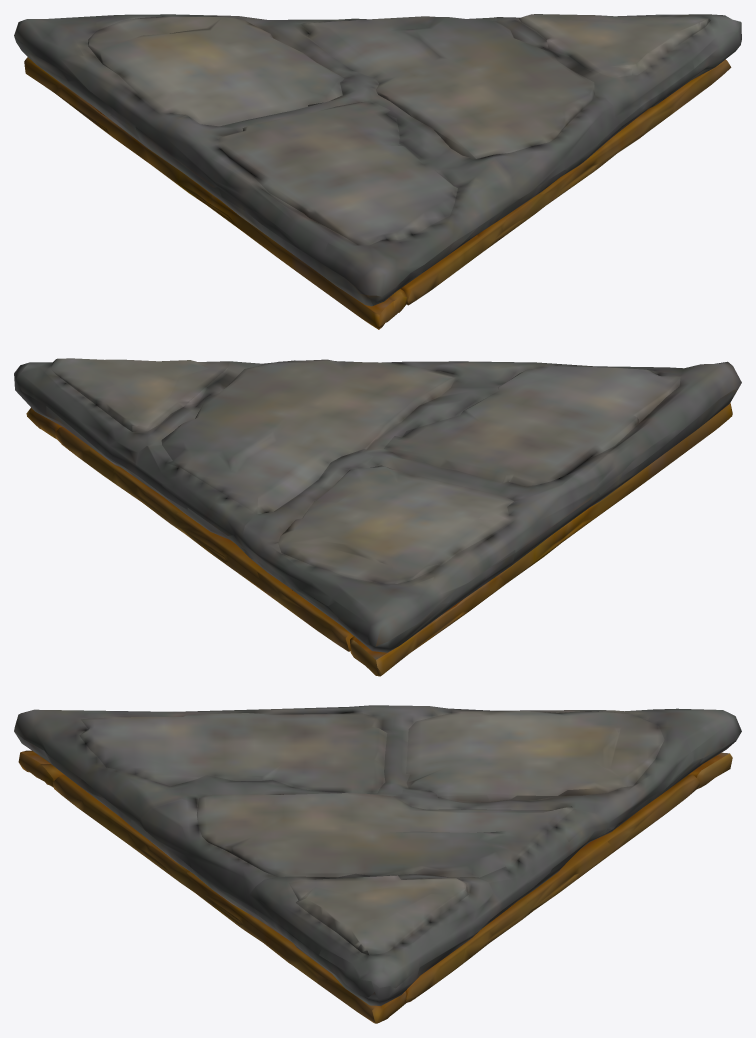
The model's file is BP_TriCeiling_Stone_C.glb.
3 views of the same model, one above another, from view 1: azimuth 30°, elevation 25°; view 2: azimuth 150°, elevation 25°; view 3: azimuth 270°, elevation 25° (orthographic).
Visible parts, largest first — view 1: SM_Stone_CeilingTriangle; view 2: SM_Stone_CeilingTriangle; view 3: SM_Stone_CeilingTriangle.
Part boxes in pixels (left/top/right/bottom): SM_Stone_CeilingTriangle: left=14, top=14, right=741, bottom=329; SM_Stone_CeilingTriangle: left=14, top=358, right=741, bottom=676; SM_Stone_CeilingTriangle: left=14, top=705, right=741, bottom=1023.
Size of the model in its own units: 2.71 by 0.3366 by 3.07.
Materials: 1 (1 with a texture image).
